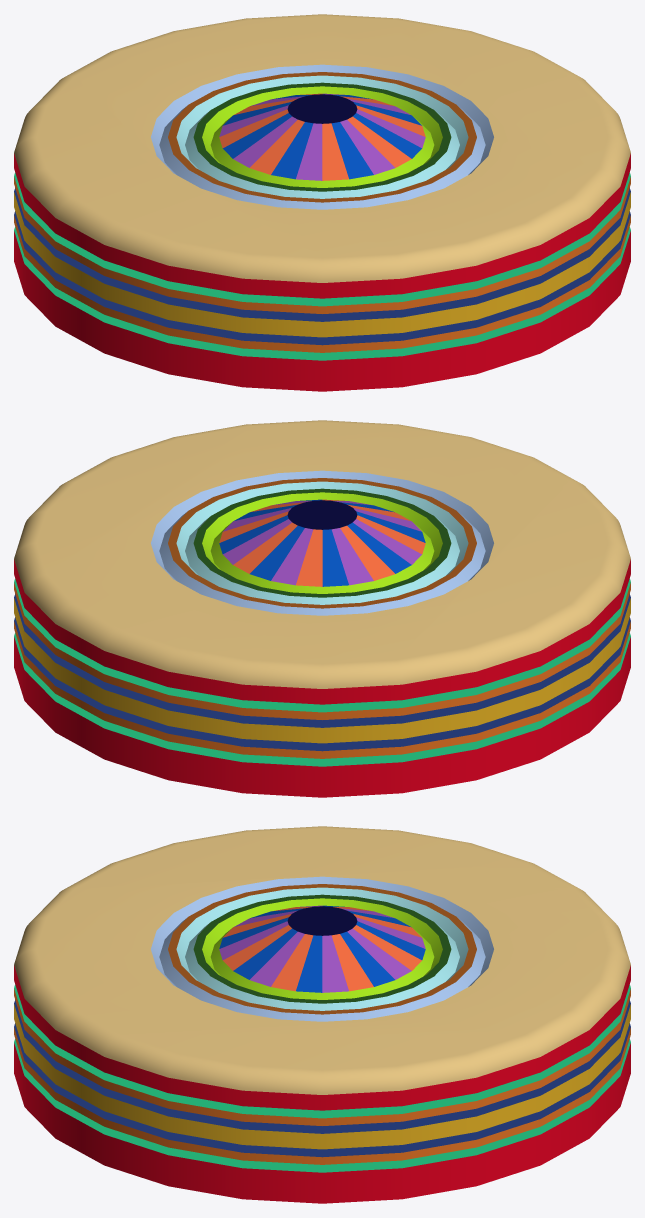
Rendered from EnergyCore pt1.fbx.
3 views of the same model, one above another, from view 1: azimuth 30°, elevation 25°; view 2: azimuth 150°, elevation 25°; view 3: azimuth 270°, elevation 25° (orthographic).
Parts seen in each view (by area): view 1: Model; view 2: Model; view 3: Model.
Part boxes in pixels (x1=…): Model: x1=14, y1=14, x2=630, y2=391; Model: x1=14, y1=420, x2=630, y2=797; Model: x1=14, y1=826, x2=630, y2=1203.
Bounding box in the file's own units: 1096 × 298 × 1096.
